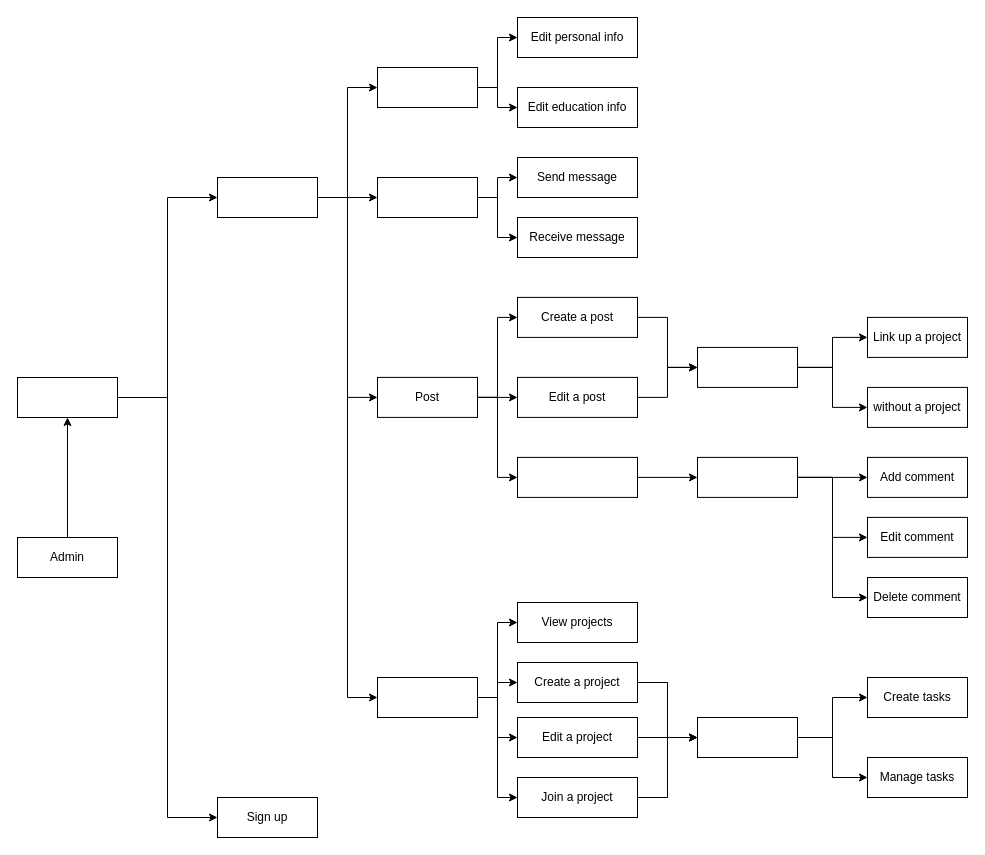
The diagram is 985 pixels wide and 855 high, and some of its shapes have lost their labels. Here are the shapes that lost their labels. From the top down, the centre of each, then its label:
At pixel 427 87: "Profile".
At pixel 267 197: "Sign in".
At pixel 427 197: "Message".
At pixel 747 366: "Select tags".
At pixel 67 397: "Client".
At pixel 577 476: "View posts".
At pixel 747 476: "Comment".
At pixel 427 697: "Project".
At pixel 747 737: "Task".
